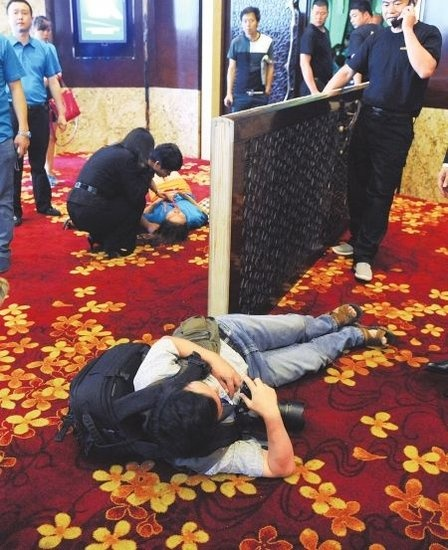falling: (56, 291, 389, 482)
